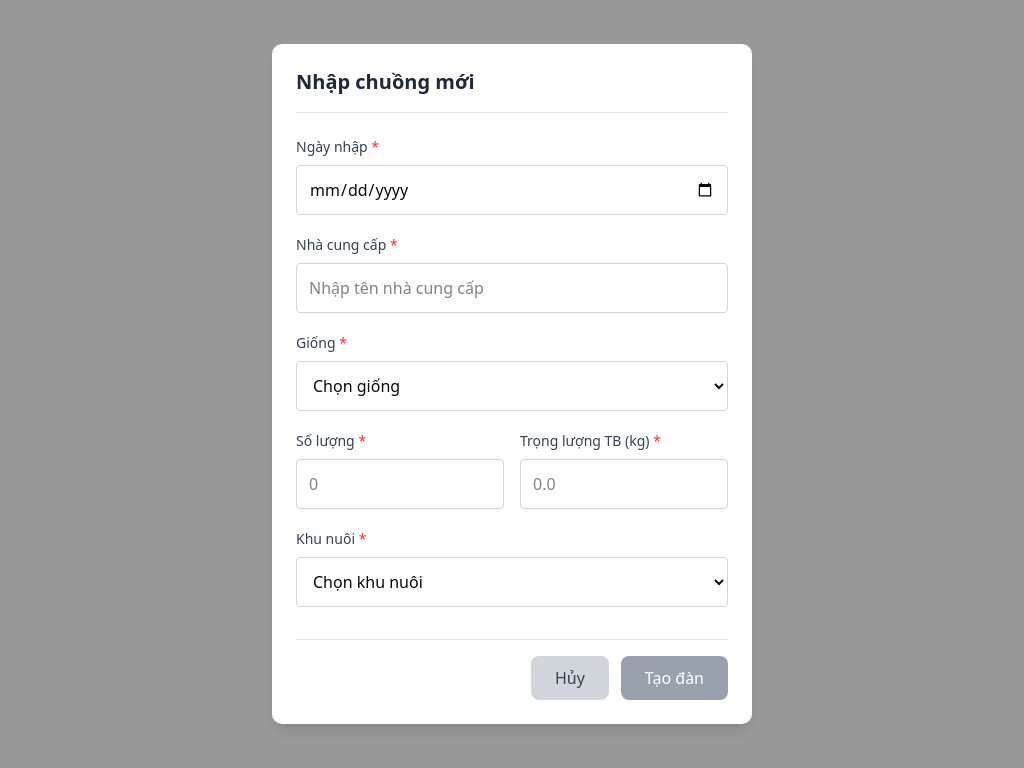
Scenario: U5.2 - Form Nhập chuồng mới & U5.5 - Chỉnh sửa › TC3 - Hiển thị lỗi khi bỏ trống trường bắt buộc
Select "Khu A (Tối đa: 10000, Còn trống: 7000)" in the dropdown below "Khu nuôi" at coordinates (512, 582), box [296,557,728,607]
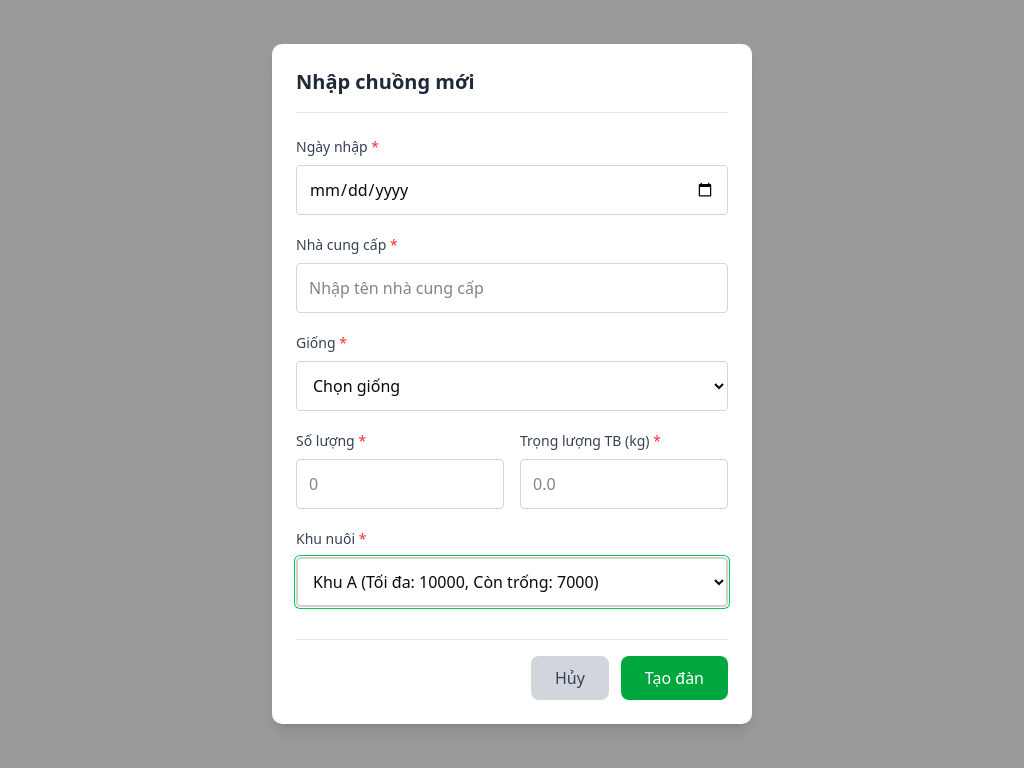
Expected: the button "Tạo đàn" is enabled
Click the button "Tạo đàn" at coordinates (674, 678), box [621,656,728,700]
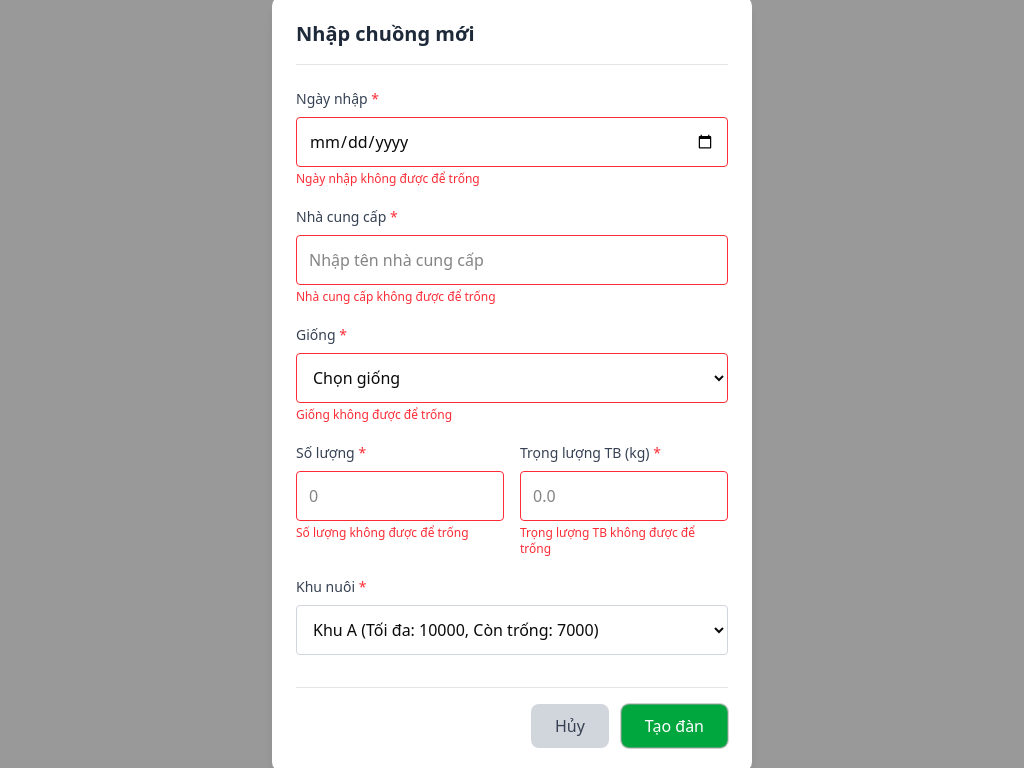
Expected: the text "Ngày nhập không được để trống" is shown, [296,170,480,187]
Expected: the text "Nhà cung cấp không được để trống" is shown, [296,288,496,305]
Expected: the text "Số lượng không được để trống" is shown, [296,524,469,541]
